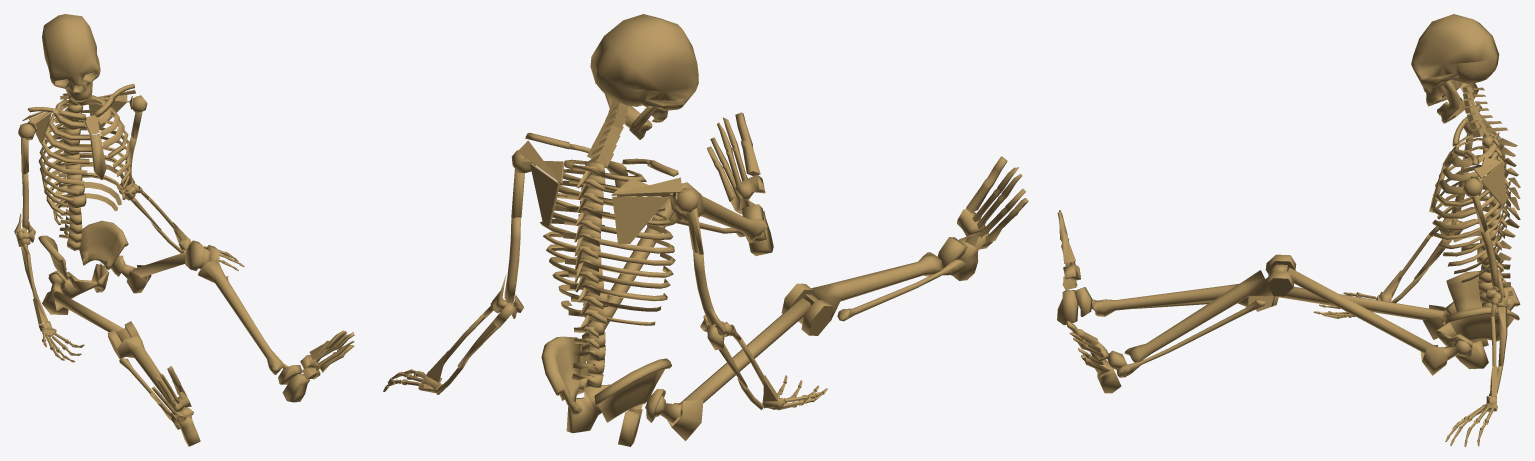
File: Skeleton1.obj
3 renders of one model, left to right at view 1: azimuth 30°, elevation 25°; view 2: azimuth 150°, elevation 25°; view 3: azimuth 270°, elevation 25°, orthographic. The views are drawn at different scales.
Parts seen in each view (by area): view 1: THORAX003, SKULL_HE003, PELVIS003, RFEMUR003, LFEMUR003, LLOW_LEG003, RLOW_LEG003, RHUMERUS003, L_FOOT003, L_TOES003, LLOW_ARM003, R_TOES003 (+7 smaller); view 2: THORAX003, SKULL_HE003, PELVIS003, RFEMUR003, RLOW_LEG003, RSCAPULA003, L_TOES003, R_TOES003, RHUMERUS003, LHUMERUS003, R_FOOT003, LSCAPULA003 (+9 smaller); view 3: THORAX003, SKULL_HE003, LFEMUR003, PELVIS003, LLOW_LEG003, RFEMUR003, RLOW_LEG003, LLOW_ARM003, LHUMERUS003, R_FOOT003, RLOW_ARM003, CERVNECK003 (+8 smaller).
Part boxes in pixels (box(x1,y1,x2,y2)): THORAX003: box(38, 93, 131, 224); SKULL_HE003: box(42, 14, 100, 101); PELVIS003: box(38, 220, 128, 298); RFEMUR003: box(42, 274, 140, 358); LFEMUR003: box(112, 240, 219, 293); LLOW_LEG003: box(198, 259, 288, 374); RLOW_LEG003: box(117, 336, 193, 429); RHUMERUS003: box(14, 123, 35, 242); L_FOOT003: box(278, 355, 320, 402); L_TOES003: box(309, 330, 354, 372); LLOW_ARM003: box(117, 183, 191, 253); R_TOES003: box(150, 366, 187, 419); THORAX003: box(540, 159, 675, 329); SKULL_HE003: box(590, 14, 698, 122); PELVIS003: box(541, 336, 671, 446); RFEMUR003: box(645, 283, 833, 440); RLOW_LEG003: box(811, 252, 965, 321); RSCAPULA003: box(611, 177, 682, 244); L_TOES003: box(707, 112, 760, 201); R_TOES003: box(966, 156, 1028, 242); RHUMERUS003: box(675, 188, 732, 336); LHUMERUS003: box(491, 150, 531, 318); R_FOOT003: box(937, 209, 992, 280); LSCAPULA003: box(517, 140, 564, 226); THORAX003: box(1429, 131, 1520, 282); SKULL_HE003: box(1411, 14, 1499, 106); LFEMUR003: box(1265, 254, 1470, 375); PELVIS003: box(1436, 271, 1520, 368); LLOW_LEG003: box(1117, 270, 1272, 377); RFEMUR003: box(1248, 278, 1448, 339); RLOW_LEG003: box(1090, 284, 1250, 316); LLOW_ARM003: box(1486, 288, 1508, 404); LHUMERUS003: box(1462, 178, 1505, 303); R_FOOT003: box(1057, 264, 1092, 325); RLOW_ARM003: box(1379, 220, 1462, 302); CERVNECK003: box(1462, 85, 1507, 137).
Size of the model in its own units: 0.9642 by 1.01 by 1.28.
